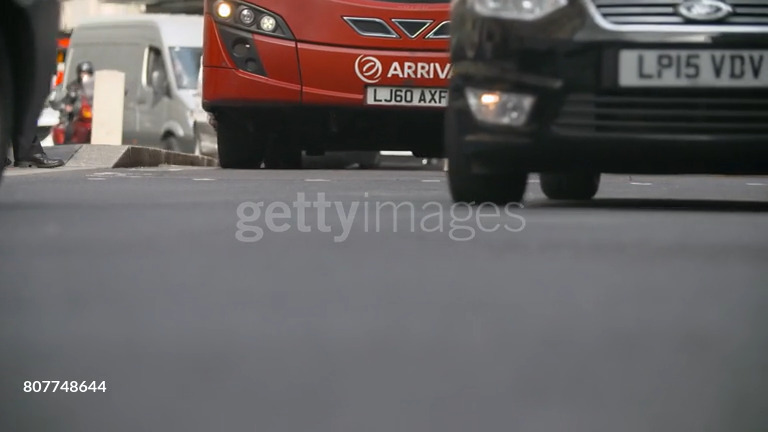car number: (613, 48, 762, 85), (364, 85, 450, 105)
